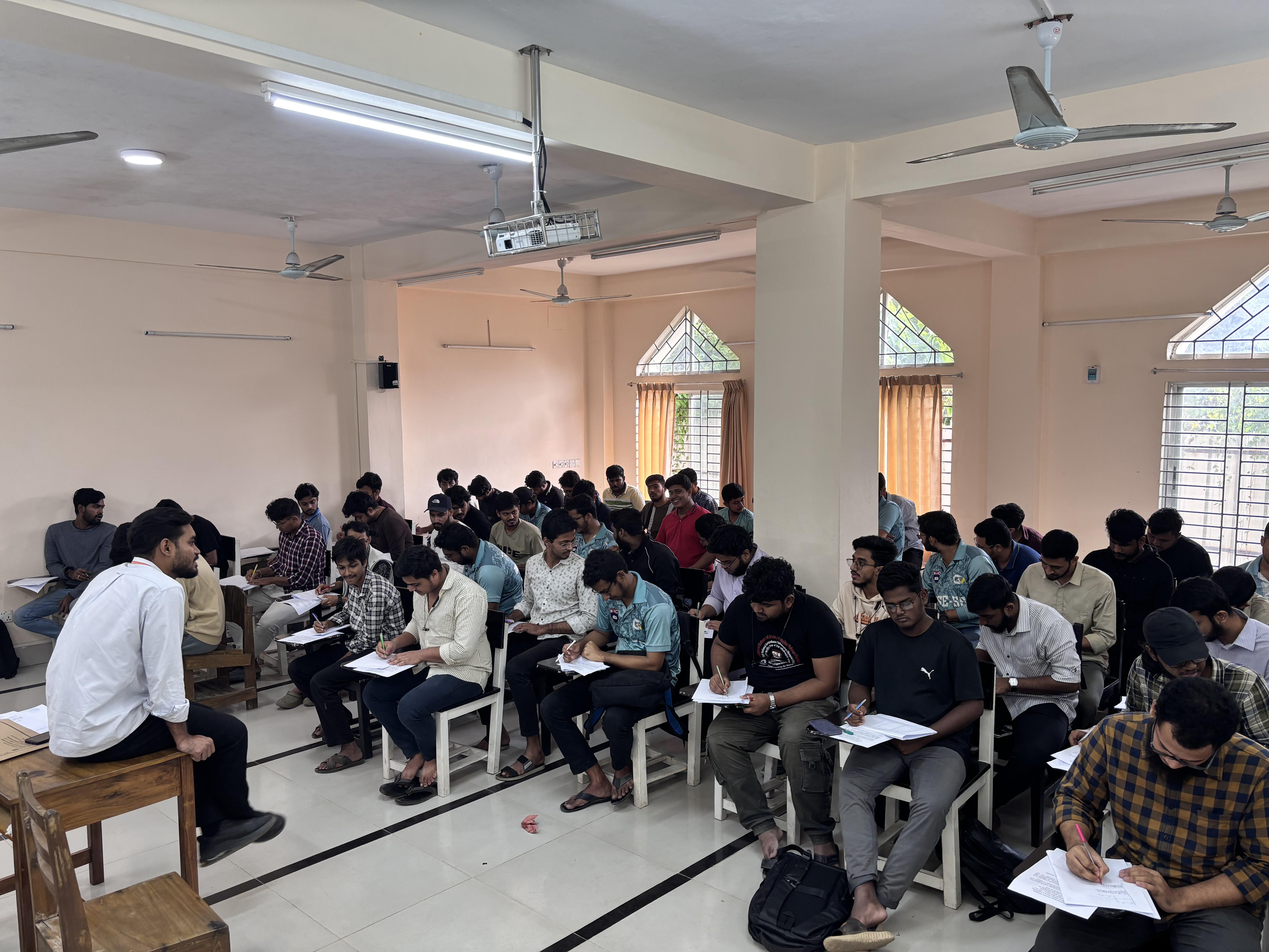copying: (519, 508, 588, 653), (320, 534, 383, 688), (913, 505, 979, 597), (606, 506, 660, 576), (292, 480, 329, 532), (417, 492, 456, 536), (716, 483, 757, 523), (444, 483, 477, 525)
hidden_communication: (1122, 593, 1234, 691)
invigilator: (58, 504, 275, 854)
no_cheating: (1063, 678, 1269, 937), (699, 553, 848, 756), (840, 570, 972, 798), (553, 552, 680, 756), (375, 544, 482, 753), (956, 570, 1075, 730), (233, 497, 317, 640), (1023, 531, 1112, 659), (1090, 501, 1161, 606), (693, 525, 762, 617), (433, 523, 498, 610), (833, 534, 890, 612), (338, 489, 410, 550), (1149, 489, 1199, 570), (639, 474, 673, 526)
side_talking: (54, 483, 119, 594), (659, 469, 702, 552), (490, 495, 532, 544)
suspicious_moving: (600, 462, 636, 506)
